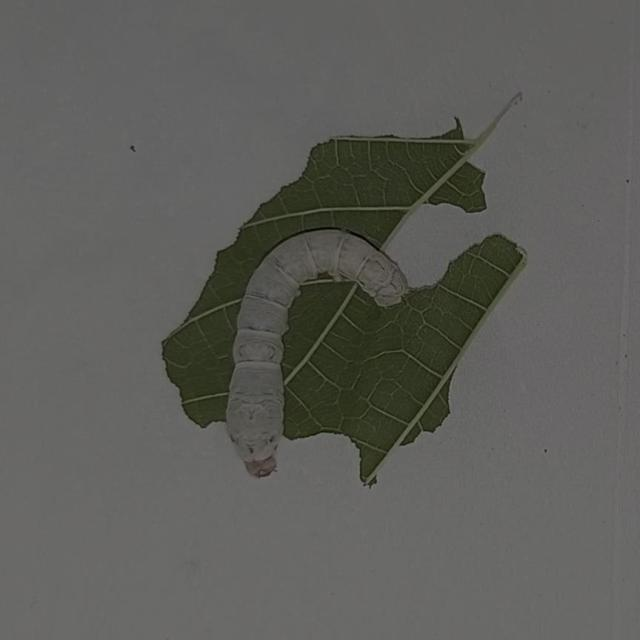Healthy: (217, 220, 415, 486)
